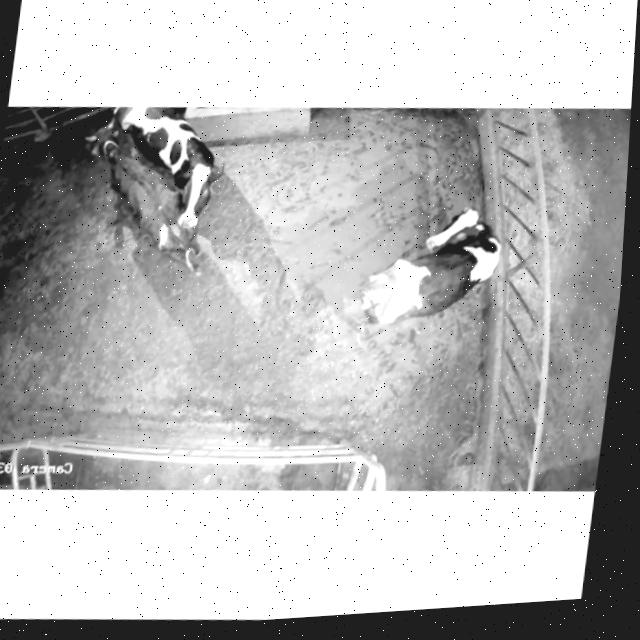propping: (143, 150, 242, 248)
